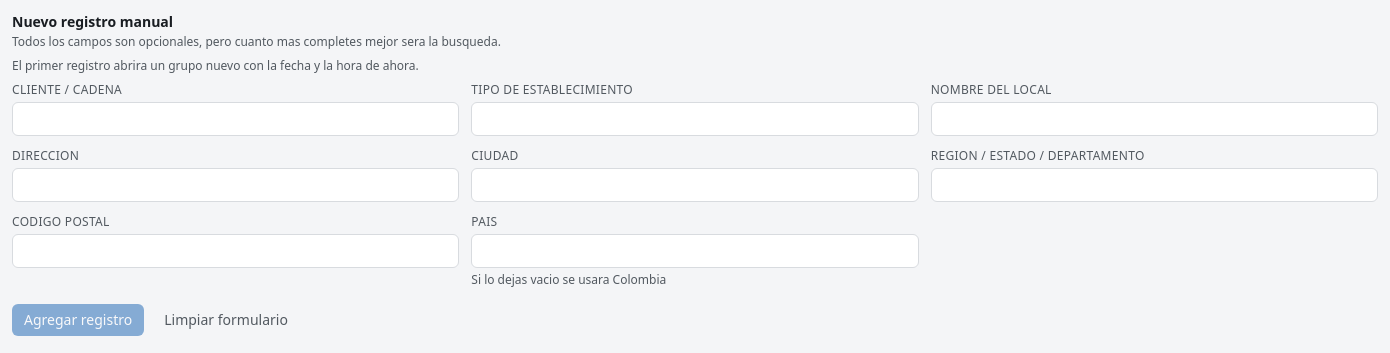
Test: sugerencias de lugares › al elegir una ciudad rellena su departamento
Step 1. Type "barran" into the dropdown labelled "Ciudad" → [695, 185], box x1=471 y1=168 x2=919 y2=202
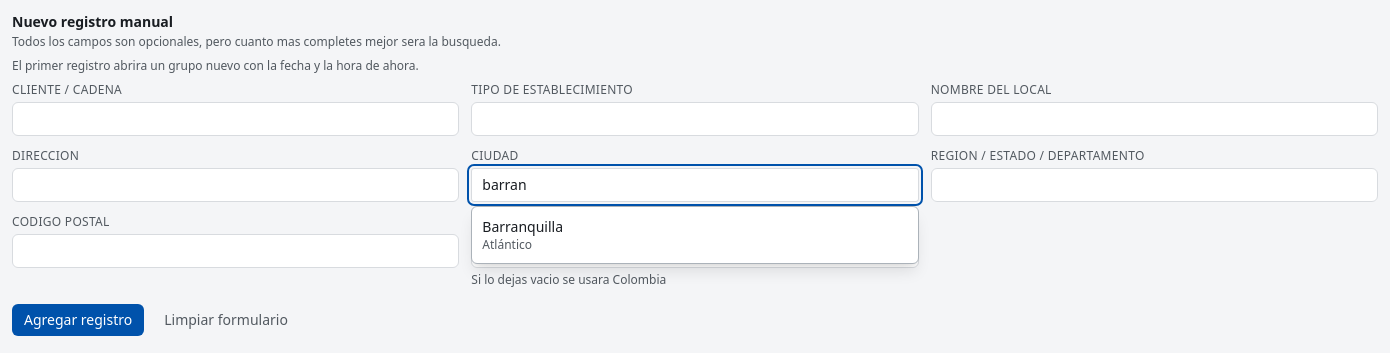
Step 2. Click the option "Barranquilla Atlántico" → [523, 235], box x1=482 y1=217 x2=563 y2=253
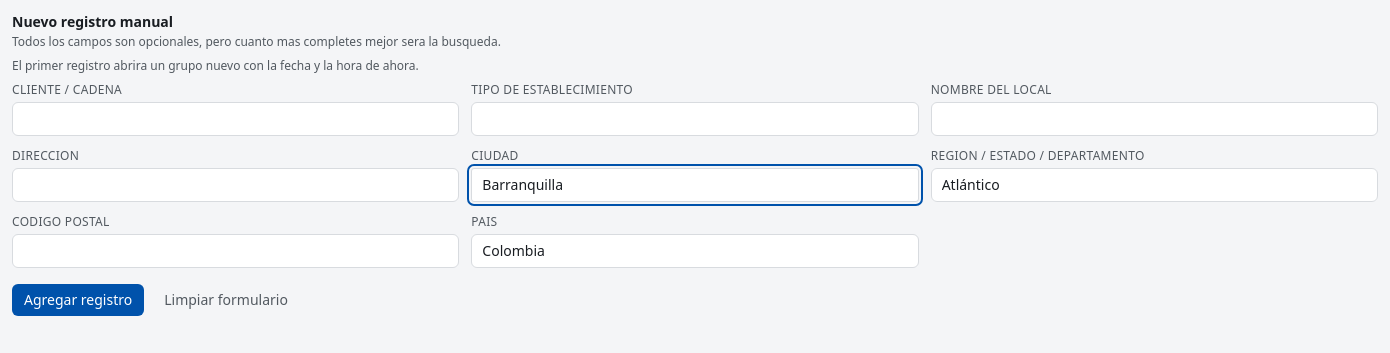
Expected: the dropdown labelled "Ciudad" holds "Barranquilla", x1=471 y1=168 x2=919 y2=202
Expected: the dropdown labelled "Region / Estado / Departamento" holds "Atlántico", x1=931 y1=168 x2=1378 y2=202
